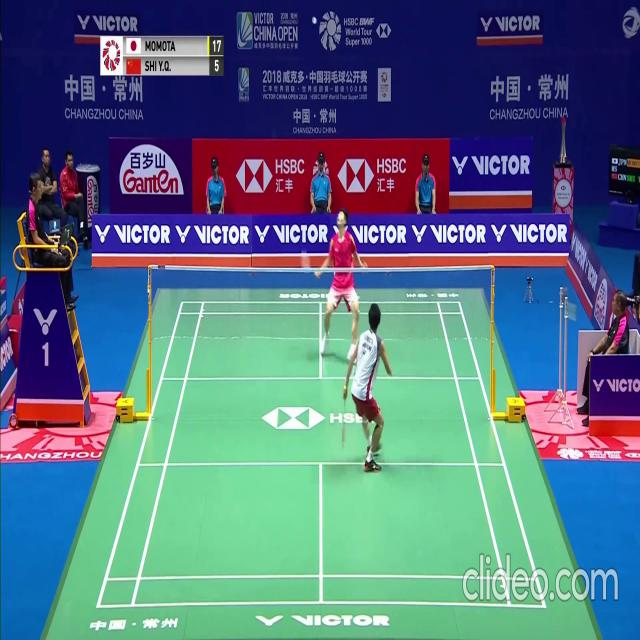Shuttlecock: (312, 16, 316, 23)
